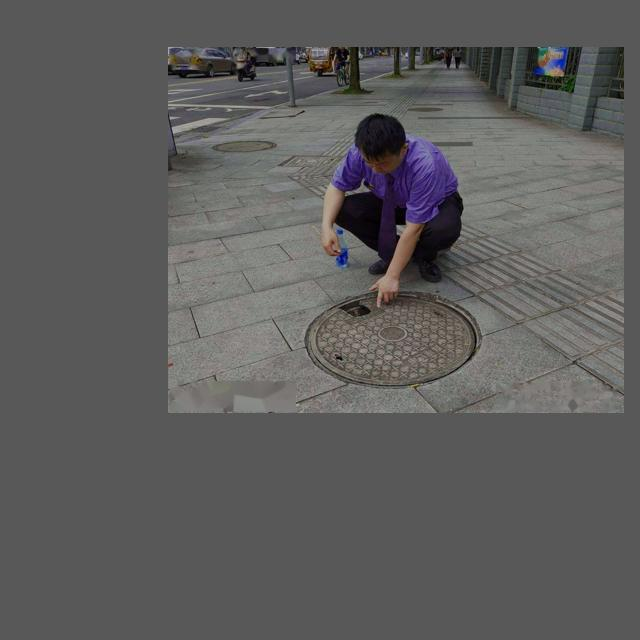broke: (302, 290, 478, 386)
